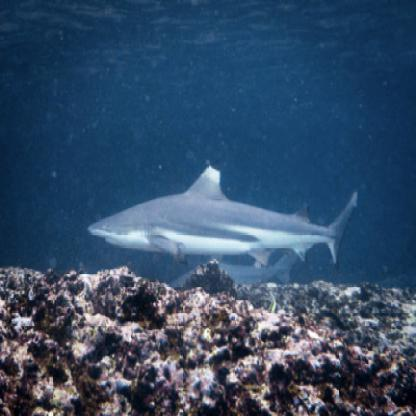shark: (87, 161, 357, 267)
